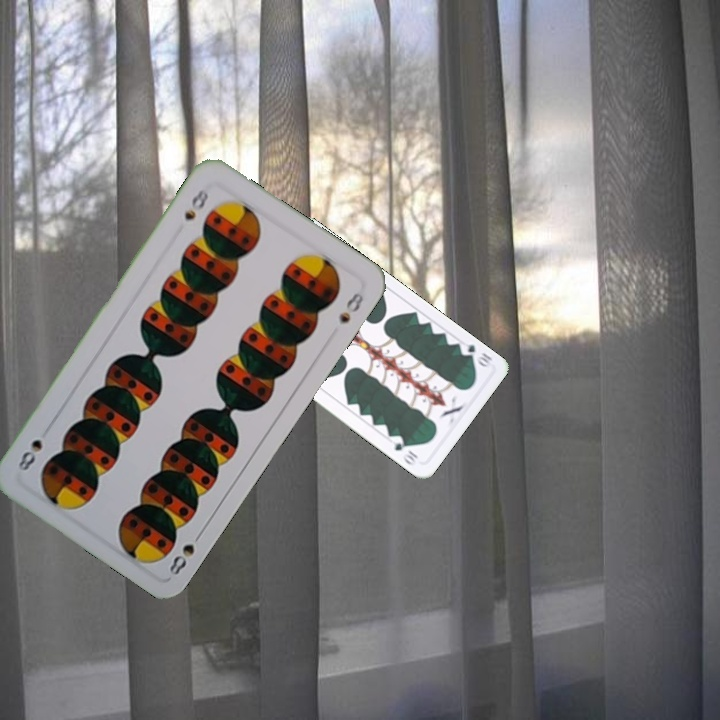G10: (456, 338, 495, 371)
S8: (165, 526, 206, 578), (180, 183, 213, 223)
